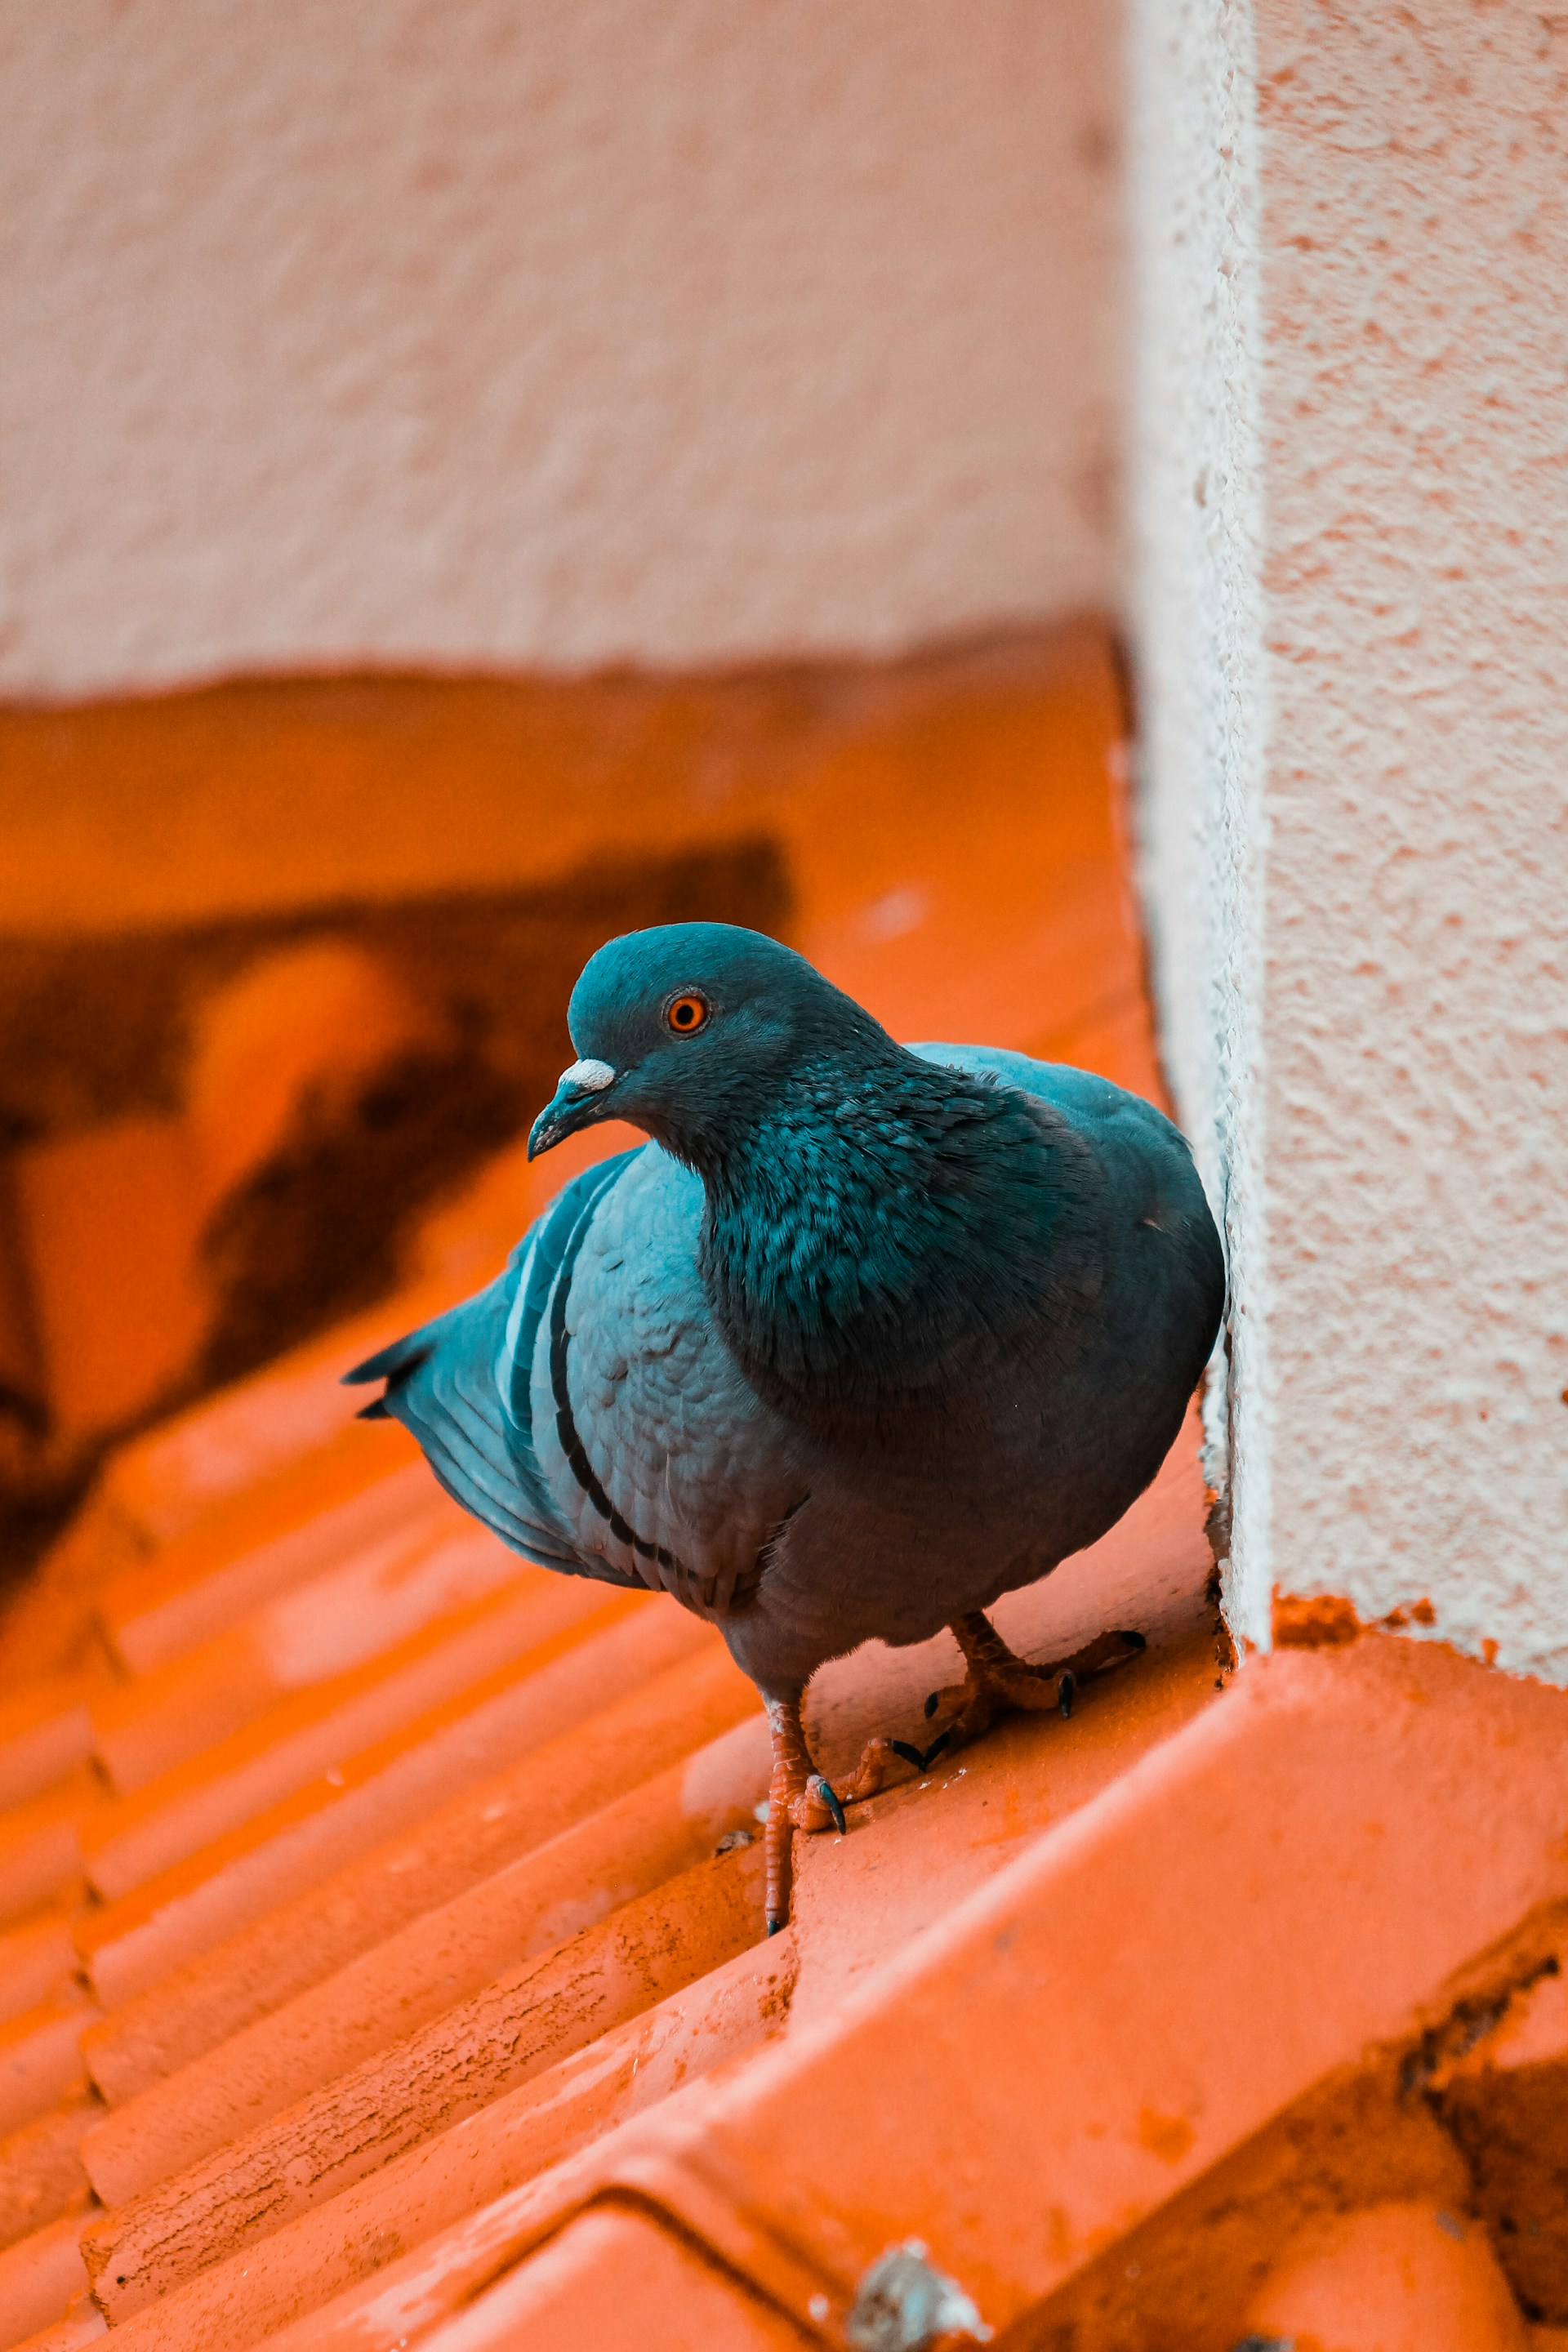pigeon: (325, 899, 1288, 1878)
